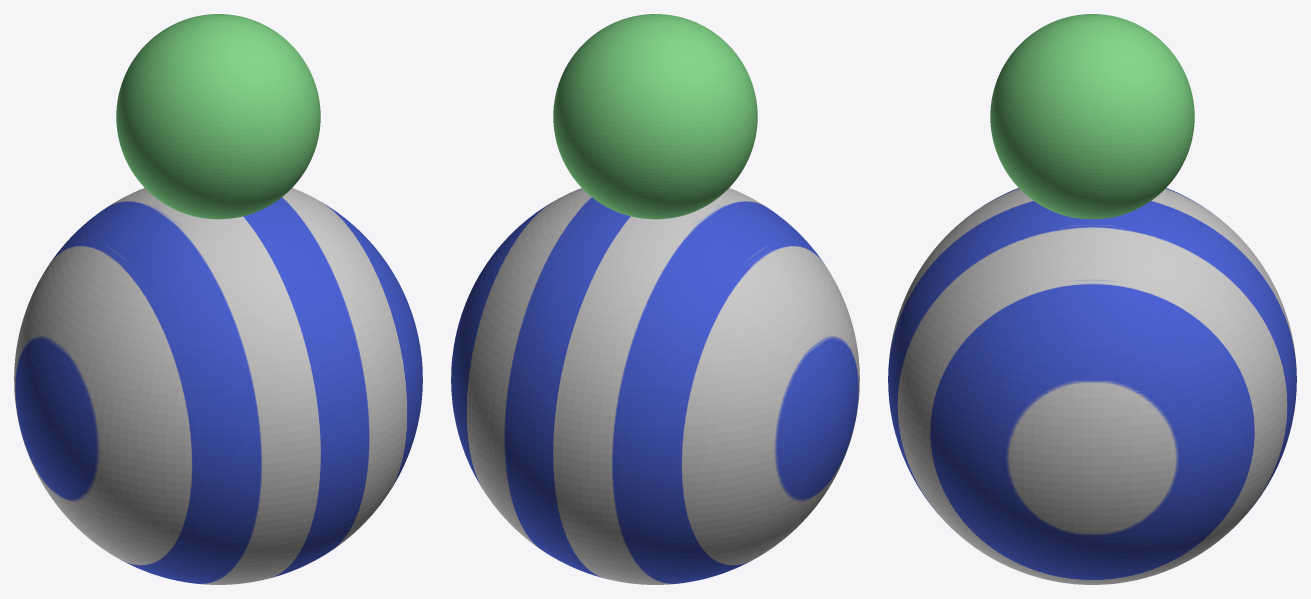
Rendered from BOD0_BMC0_BCC13_BPT1_FRC0_HEA0_HMC13_HCC0_HPT0_ELT0_ERT0_ELL0_ERL0_AP0_AAL0_AAR0_BEK0.fbx.
3 renders of one model, left to right at view 1: azimuth 30°, elevation 25°; view 2: azimuth 150°, elevation 25°; view 3: azimuth 270°, elevation 25°, orthographic.
Parts seen in each view (by area): view 1: Body, Head; view 2: Body, Head; view 3: Body, Head.
Boxes of the visible parts, left/top/right/bottom form: Body: left=14, top=188, right=422, bottom=584; Head: left=116, top=14, right=320, bottom=219; Body: left=451, top=188, right=859, bottom=584; Head: left=553, top=14, right=757, bottom=219; Body: left=888, top=188, right=1296, bottom=584; Head: left=990, top=14, right=1194, bottom=219.
Bounding box in the file's own units: 98.72 × 145 × 98.72.
Materials: 2 (2 with a texture image).
